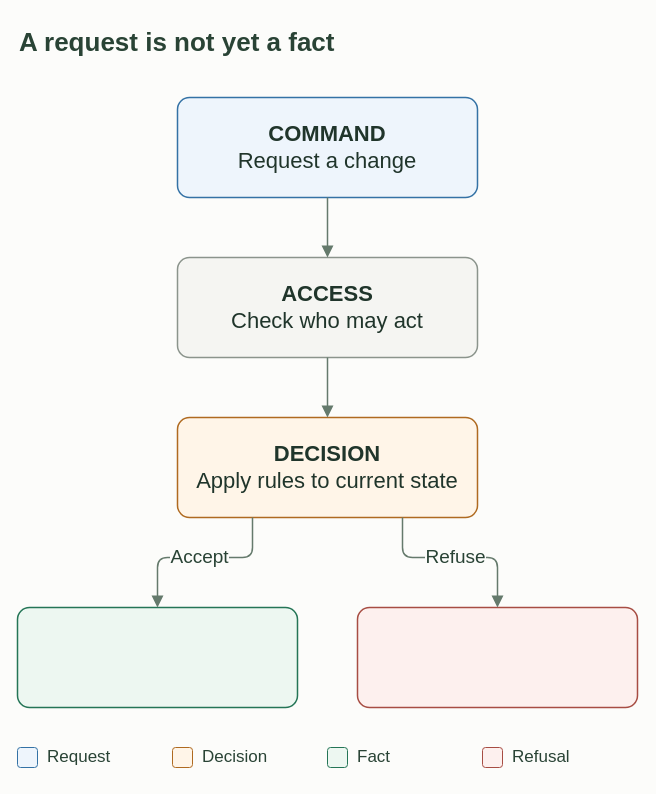
Image size: 656x794. Some labels were removed from this diagram. The centre of each missing label's shape, as x and y in pixels:
"ACCEPTED EVENT Record what happened" belongs at [157,657].
"REFUSAL Explain why; no such event" belongs at [497,657].
